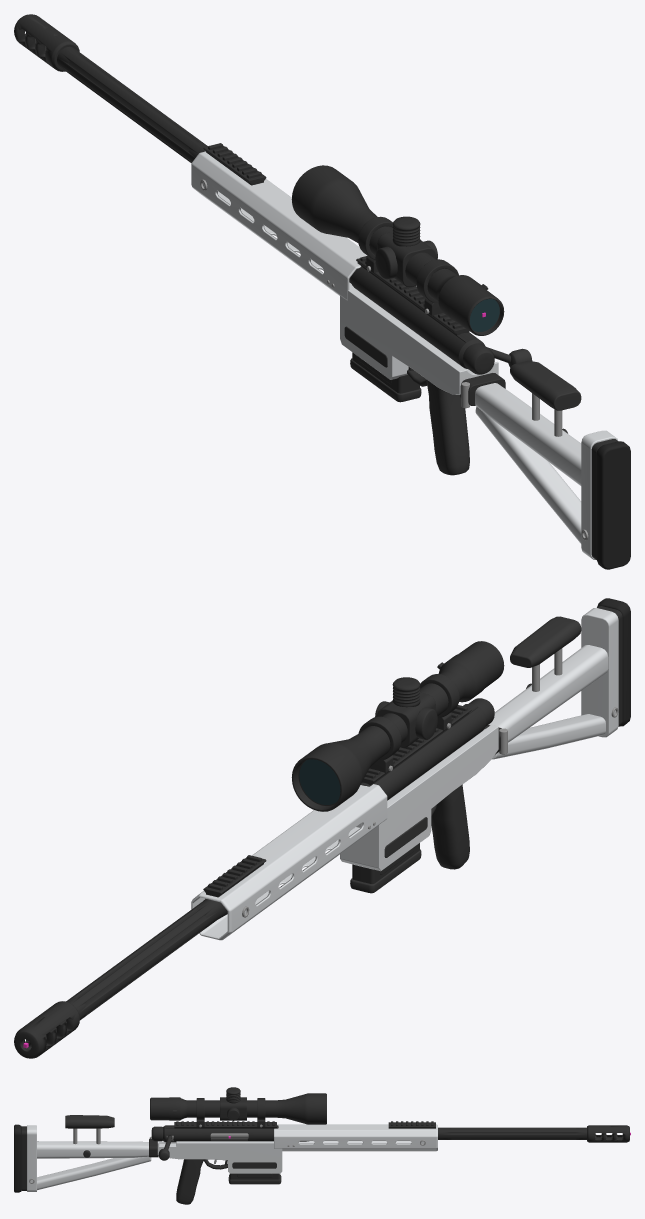
The picture shows the model from 3 angles, top to bottom: view 1: azimuth 30°, elevation 25°; view 2: azimuth 150°, elevation 25°; view 3: azimuth 270°, elevation 25°; orthographic projection. The views are drawn at different scales.
Parts seen in each view (by area): view 1: Body_Metal, Body_Accent, Body_Polymer, Body_Rubber, Mag, Bolt, Body_Steel, Body_Lens; view 2: Body_Accent, Body_Metal, Body_Polymer, Body_Lens, Mag, Body_Rubber, Body_Steel; view 3: Body_Accent, Body_Metal, Body_Polymer, Mag, Bolt, Body_Rubber, Body_Steel.
Part boxes in pixels (box(x1,y1,x2,y2)): Body_Metal: box(14, 14, 618, 559); Body_Accent: box(191, 151, 617, 559); Body_Polymer: box(344, 326, 581, 475); Body_Rubber: box(596, 441, 630, 569); Mag: box(350, 352, 421, 402); Bolt: box(463, 343, 532, 374); Body_Steel: box(200, 179, 588, 540); Body_Lens: box(470, 299, 499, 331); Body_Accent: box(191, 608, 618, 940); Body_Metal: box(14, 606, 622, 1058); Body_Polymer: box(384, 616, 581, 869); Body_Lens: box(299, 759, 340, 804); Mag: box(350, 843, 421, 893); Body_Rubber: box(597, 598, 630, 726); Body_Steel: box(242, 648, 618, 917); Body_Accent: box(27, 1124, 437, 1191); Body_Metal: box(21, 1087, 629, 1190); Body_Polymer: box(65, 1115, 276, 1204); Mag: box(228, 1173, 281, 1184); Bolt: box(151, 1126, 248, 1160); Body_Rubber: box(14, 1124, 21, 1192); Body_Steel: box(29, 1124, 425, 1183).
Size of the model in its own units: 0.0985 by 0.2477 by 1.22.
